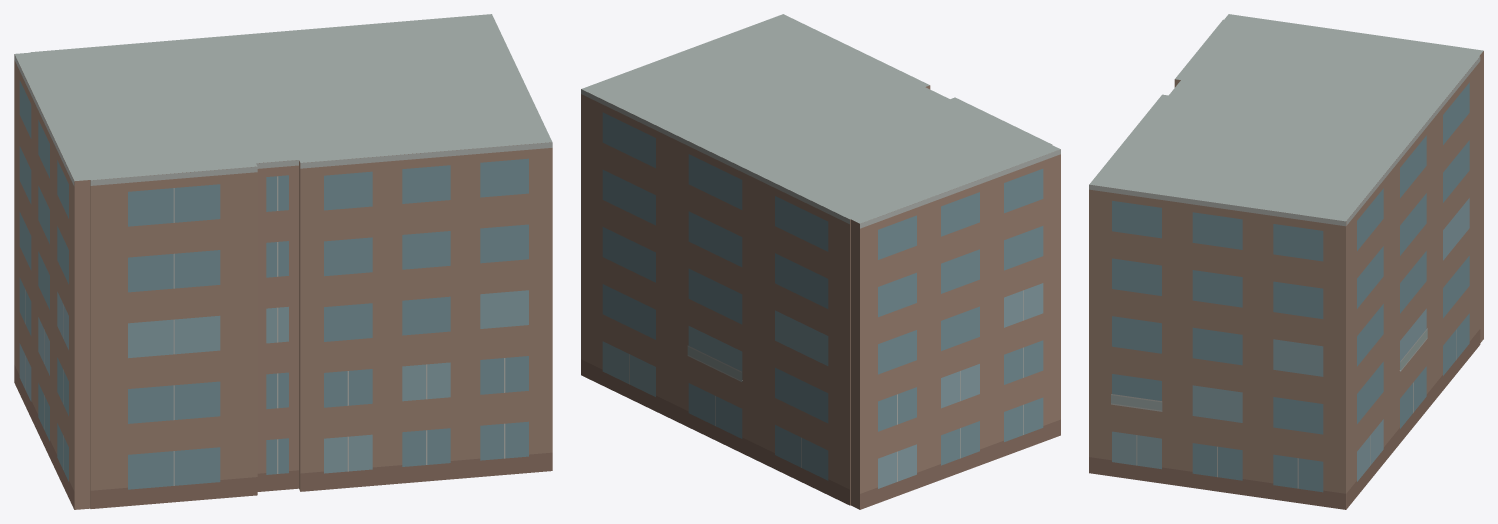
The model's file is survey-upis-32931947.glb.
3 renders of one model, left to right at view 1: azimuth 30°, elevation 25°; view 2: azimuth 150°, elevation 25°; view 3: azimuth 270°, elevation 25°, orthographic. The views are drawn at different scales.
Parts seen in each view (by area): view 1: survey-upis-32931947.tmp; view 2: survey-upis-32931947.tmp; view 3: survey-upis-32931947.tmp.
Boxes of the visible parts, box(x1,y1,x2,y2) form: survey-upis-32931947.tmp: box(14, 14, 552, 509); survey-upis-32931947.tmp: box(581, 14, 1060, 509); survey-upis-32931947.tmp: box(1089, 14, 1483, 509).
Bounding box in the file's own units: 21.9 × 14.2 × 17.62.
